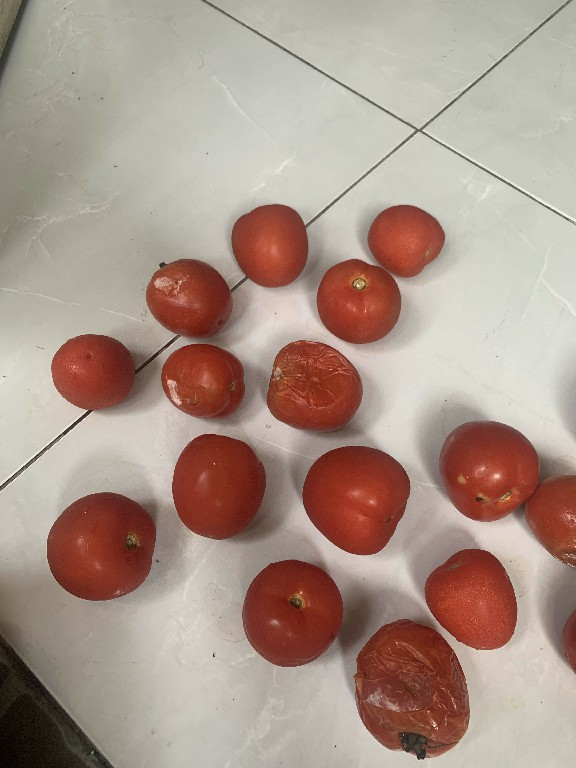NG: (342, 614, 472, 758), (431, 406, 544, 525), (257, 331, 363, 432), (139, 254, 237, 340), (152, 345, 248, 418)
OK: (41, 489, 159, 604), (299, 441, 413, 557), (421, 544, 536, 657), (237, 555, 349, 671), (164, 430, 266, 545), (312, 247, 399, 353), (42, 324, 135, 413), (228, 198, 312, 285), (363, 201, 451, 278)
